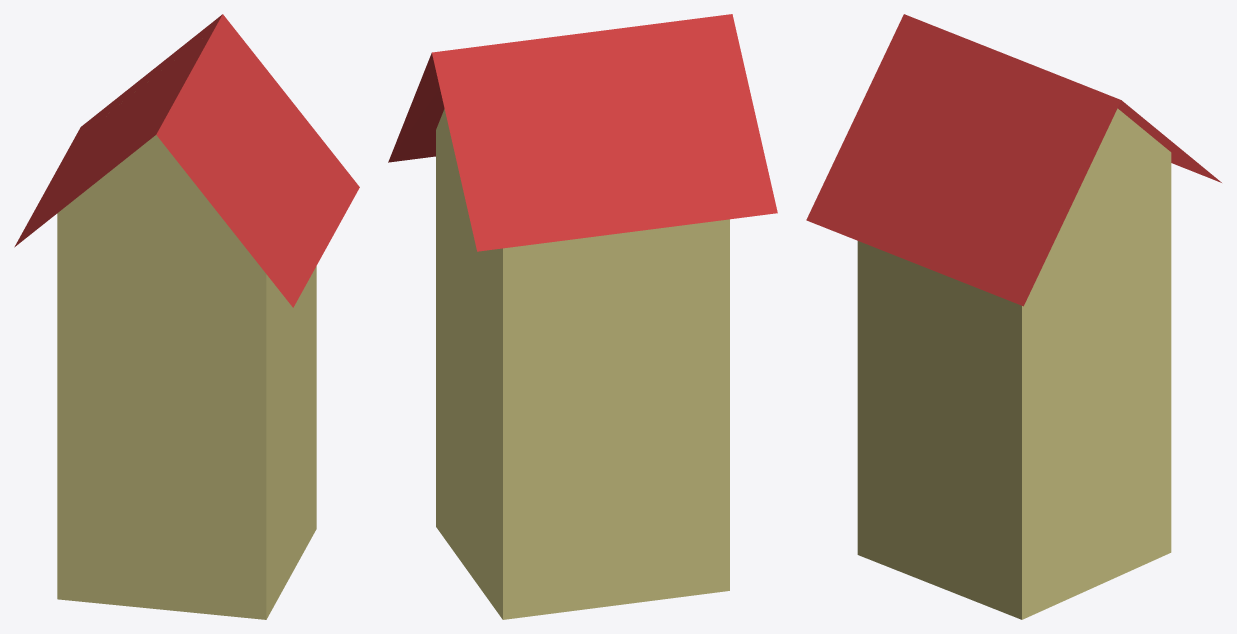
3 views of the same model, side by side, from view 1: azimuth 30°, elevation 25°; view 2: azimuth 150°, elevation 25°; view 3: azimuth 270°, elevation 25° (orthographic). The views are drawn at different scales.
Bounding box in the file's own units: 5.7 × 5.7 × 7.51.
